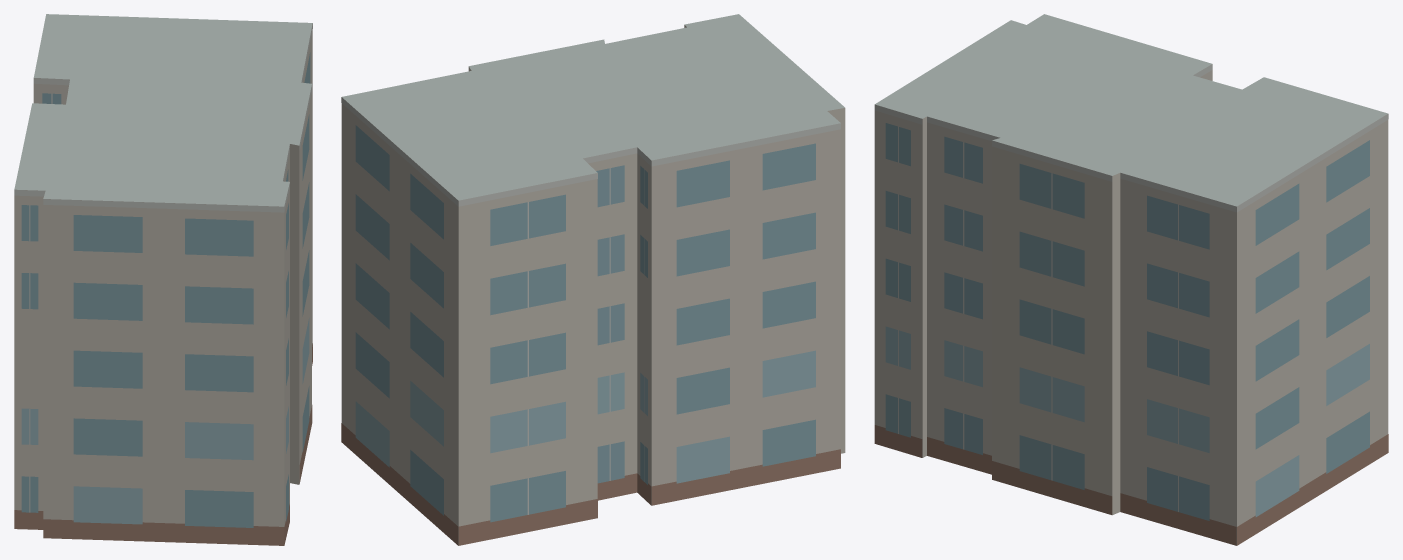
File: survey-upis-32738382.glb
The picture shows the model from 3 angles, left to right: view 1: azimuth 30°, elevation 25°; view 2: azimuth 150°, elevation 25°; view 3: azimuth 270°, elevation 25°; orthographic projection.
Parts seen in each view (by area): view 1: survey-upis-32738382.tmp; view 2: survey-upis-32738382.tmp; view 3: survey-upis-32738382.tmp.
Boxes of the visible parts, bbox=[...] form: survey-upis-32738382.tmp: bbox=[14, 14, 312, 545]; survey-upis-32738382.tmp: bbox=[341, 14, 845, 545]; survey-upis-32738382.tmp: bbox=[874, 14, 1388, 545].
Size of the model in its own units: 16.93 by 13.9 by 19.09.
